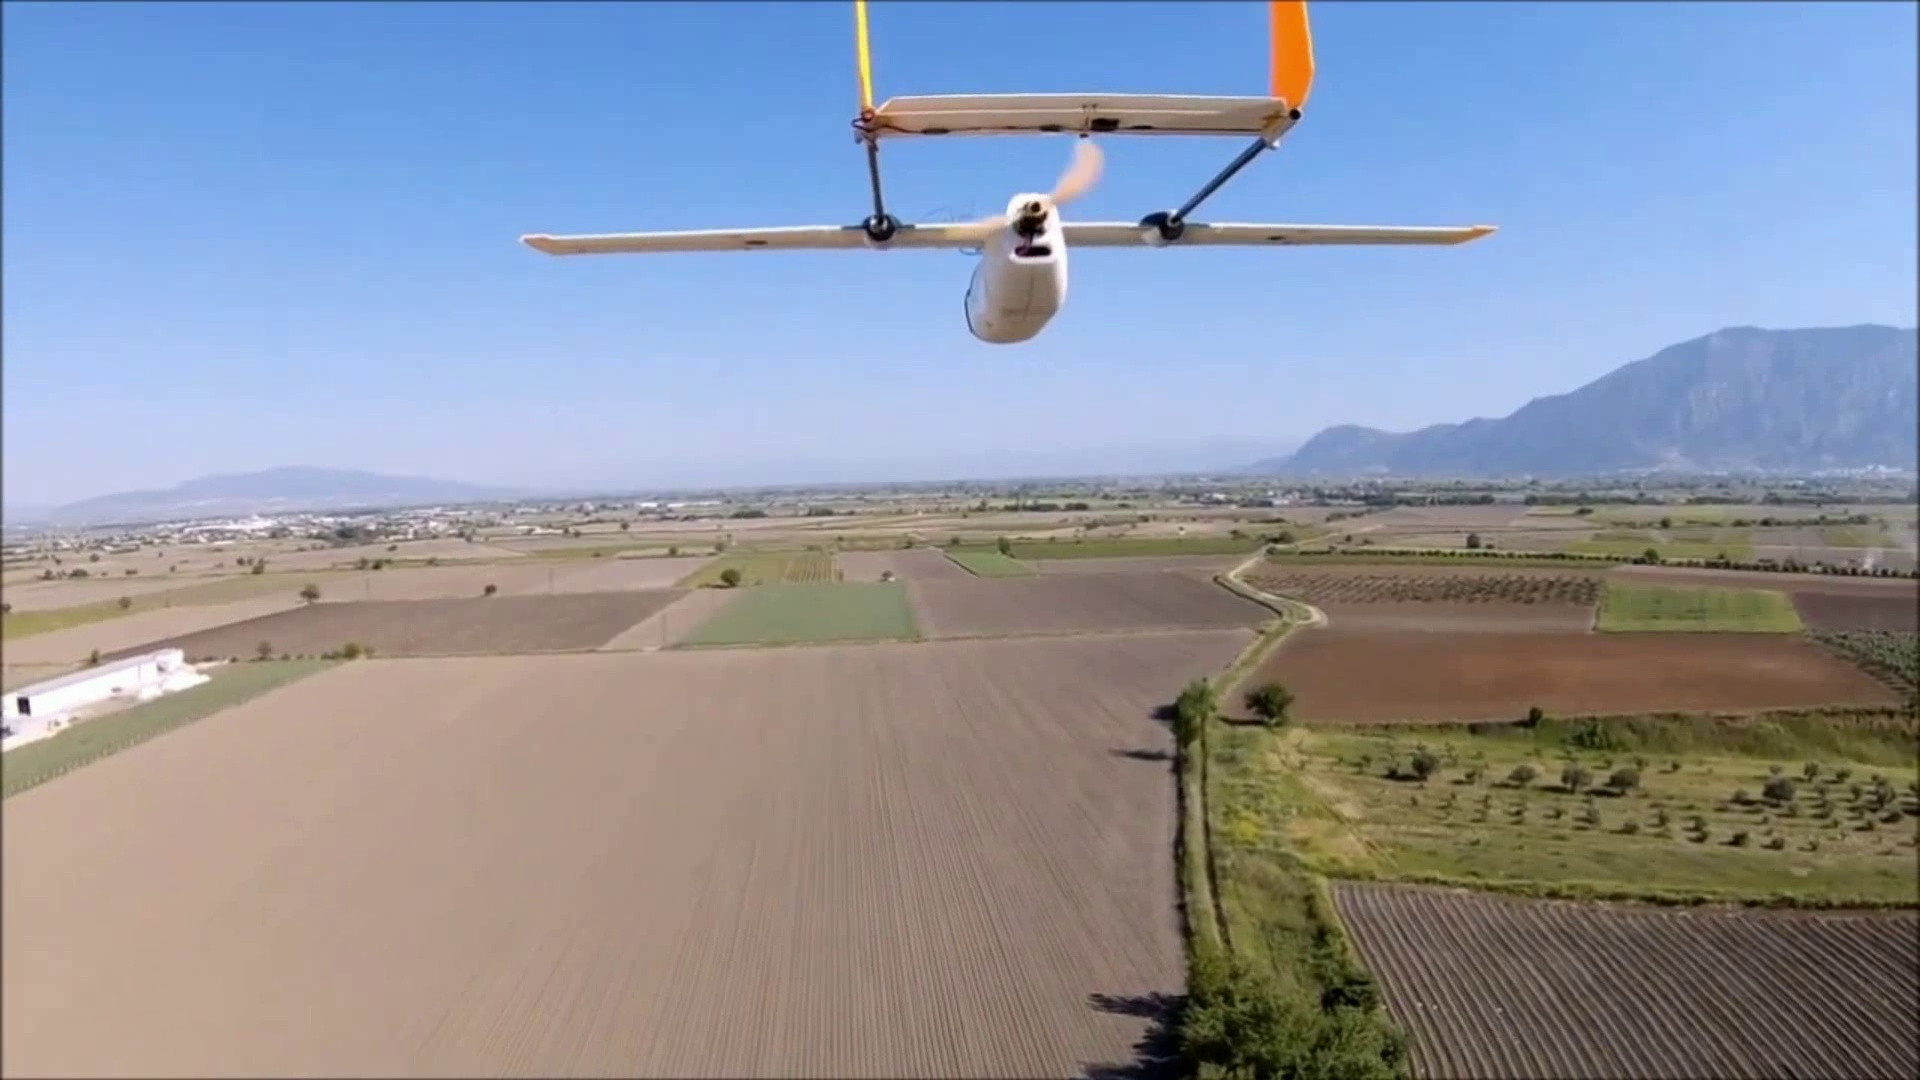airplane: (520, 4, 1497, 347)
